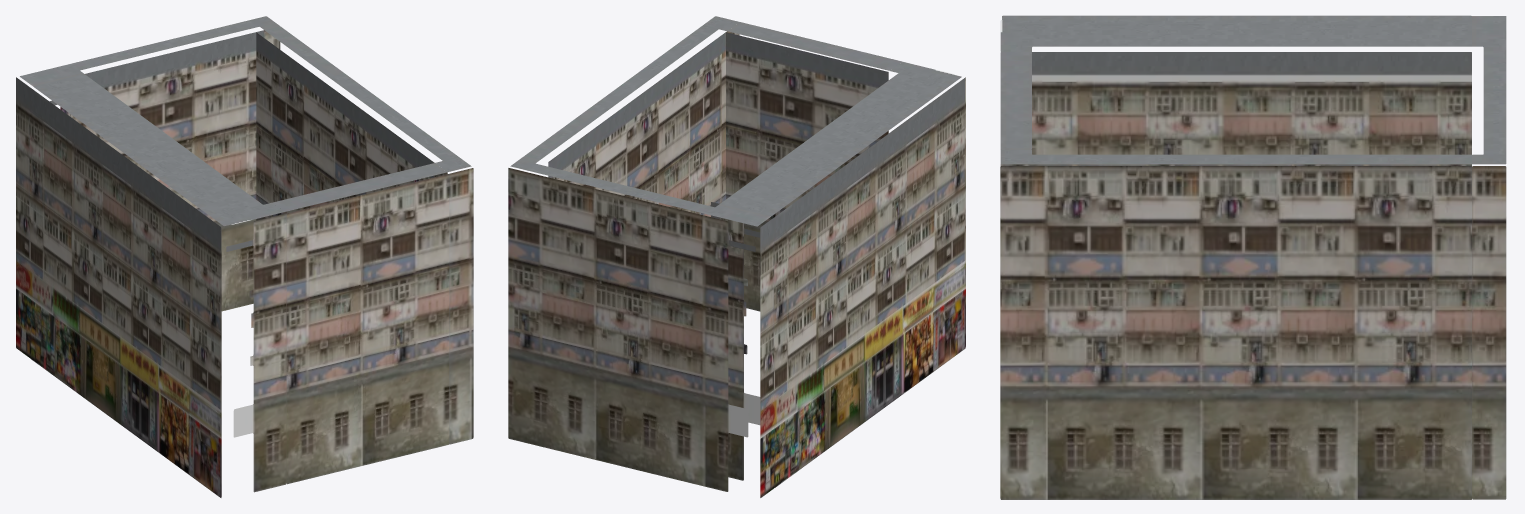
File: block-hk-4-imp.glb
3 views of the same model, side by side, from view 1: azimuth 30°, elevation 25°; view 2: azimuth 150°, elevation 25°; view 3: azimuth 270°, elevation 25° (orthographic). The views are drawn at different scales.
Visible parts, largest first — view 1: block-hk-4-imp; view 2: block-hk-4-imp; view 3: block-hk-4-imp.
Boxes of the visible parts, x1=… form: block-hk-4-imp: x1=16, y1=16, x2=473, y2=497; block-hk-4-imp: x1=508, y1=16, x2=965, y2=497; block-hk-4-imp: x1=1000, y1=15, x2=1506, y2=499.
Bounding box in the file's own units: 42 × 42.97 × 60.
Materials: 1 (1 with a texture image).
